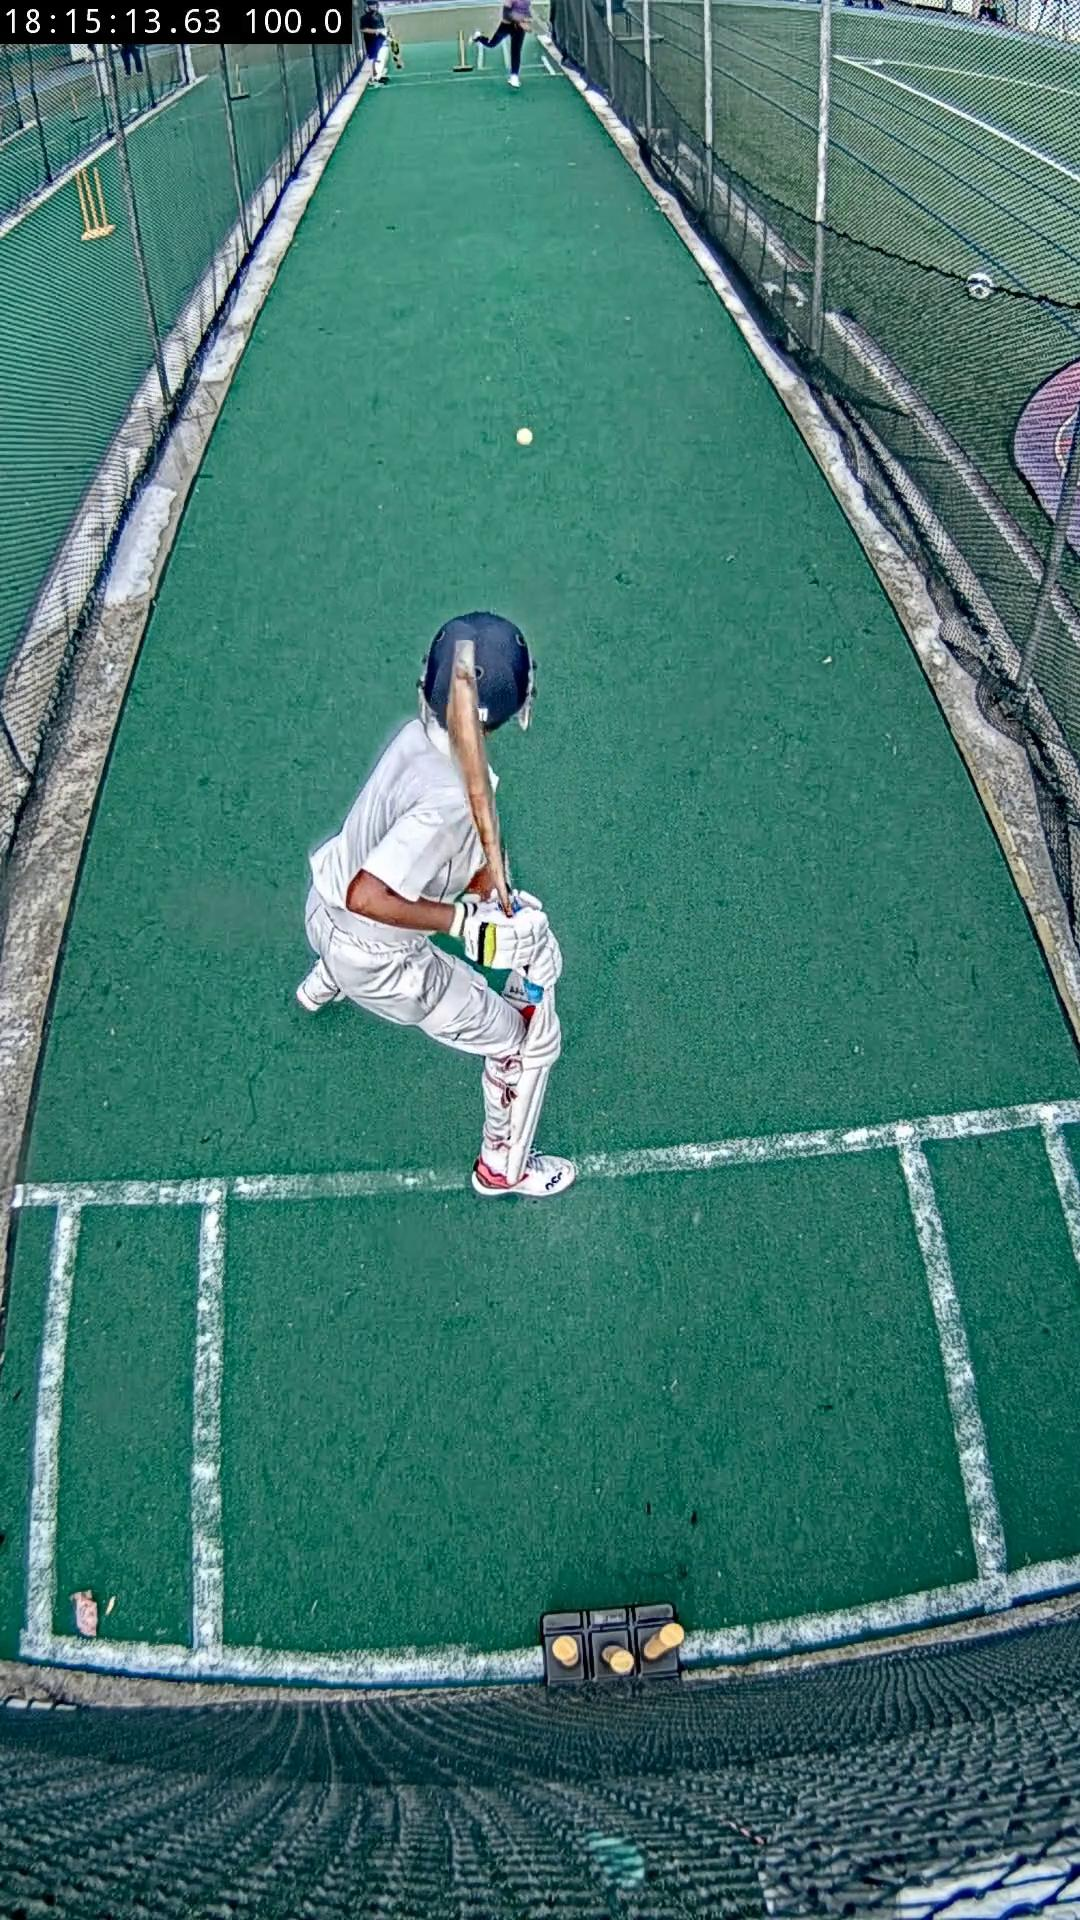ball: (517, 427, 533, 444)
bat: (446, 641, 510, 910)
gloves: (454, 893, 563, 988)
helmet: (419, 612, 533, 725)
pads: (502, 986, 563, 1185)
stumps: (541, 1605, 686, 1688)
